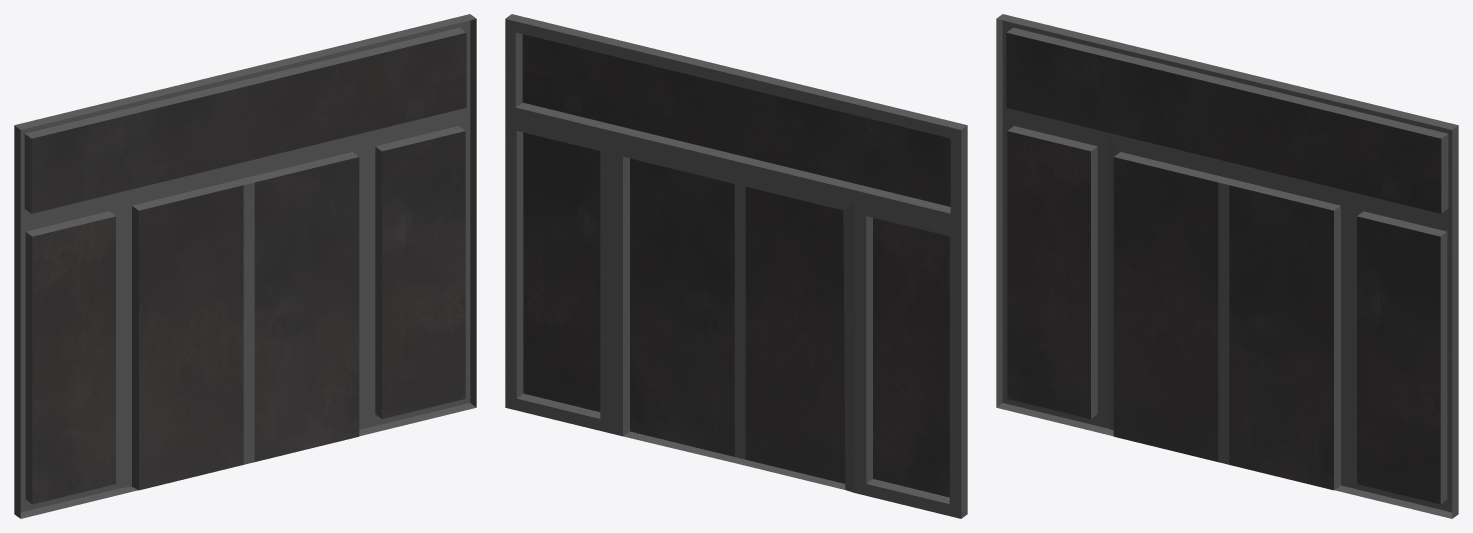
The model's file is SlidingDoors.fbx.
The picture shows the model from 3 angles, left to right: view 1: azimuth 30°, elevation 25°; view 2: azimuth 150°, elevation 25°; view 3: azimuth 330°, elevation 25°; orthographic projection.
Parts seen in each view (by area): view 1: Cube.001; view 2: Cube.001; view 3: Cube.001.
Part boxes in pixels (x1,y1,x2,y2): Cube.001: [14, 14, 476, 518]; Cube.001: [505, 14, 967, 518]; Cube.001: [996, 14, 1458, 518].
Size of the model in its own units: 200 by 163 by 5.23.
